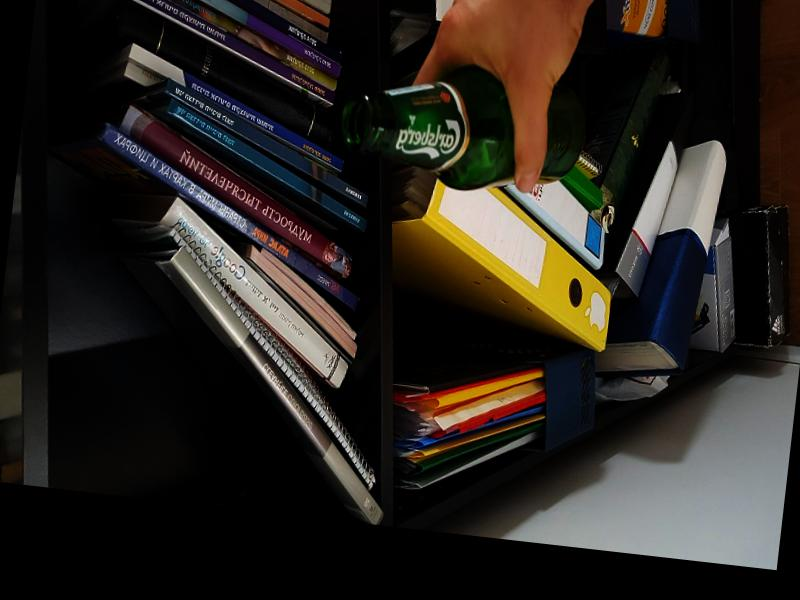Beer: (336, 55, 593, 201)
